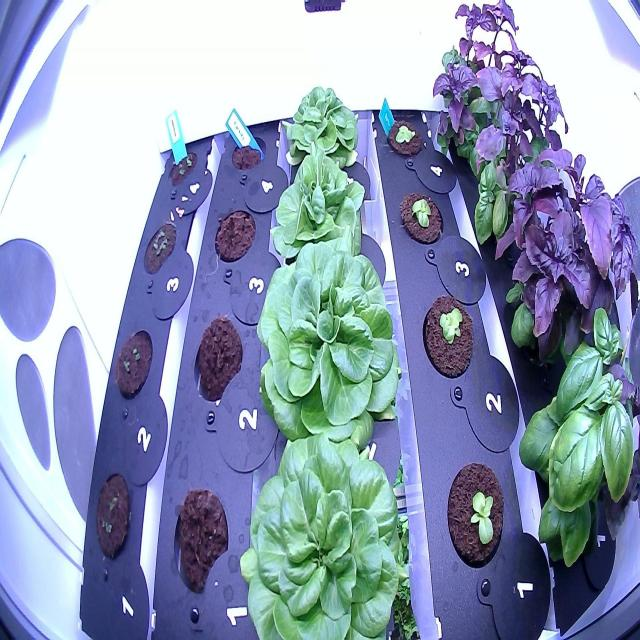germination: (89, 463, 135, 566), (136, 210, 184, 291), (111, 321, 156, 406), (162, 138, 200, 194)
pod: (166, 479, 235, 607), (189, 304, 248, 412), (208, 197, 260, 268), (226, 122, 270, 186)
young: (230, 410, 408, 640), (250, 231, 404, 460), (264, 146, 374, 287), (276, 80, 369, 186), (440, 445, 510, 576), (415, 279, 481, 397), (394, 178, 452, 254), (384, 104, 426, 166)
